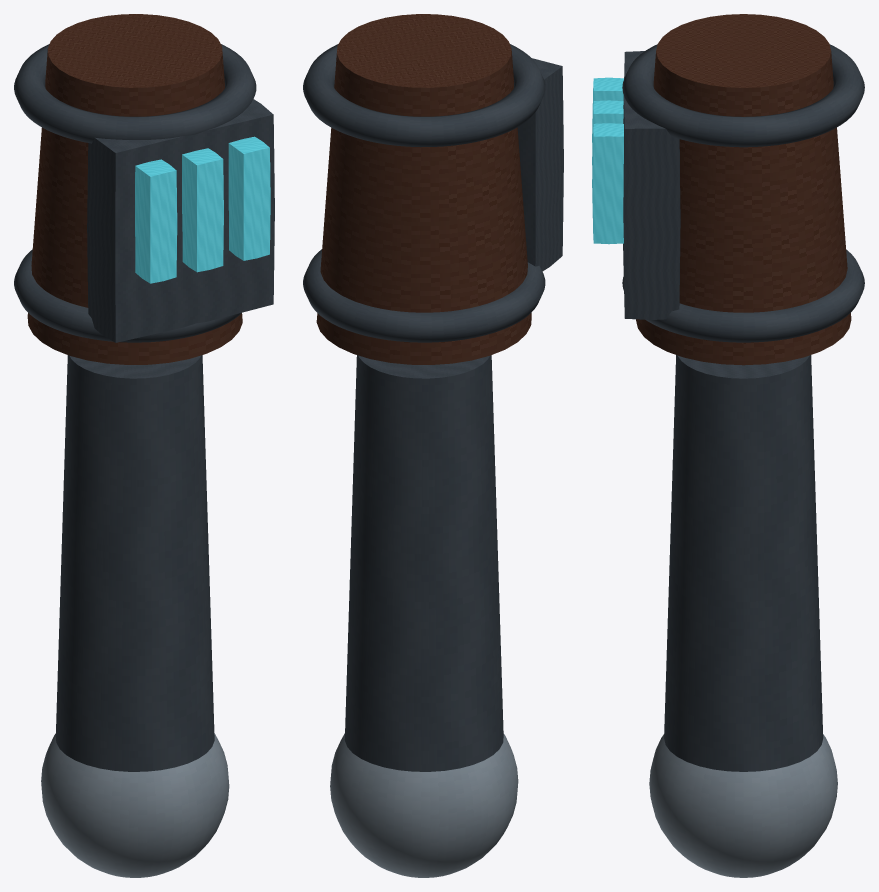
The model's file is exo-arm.glb.
3 renders of one model, left to right at view 1: azimuth 30°, elevation 25°; view 2: azimuth 150°, elevation 25°; view 3: azimuth 270°, elevation 25°, orthographic.
Parts seen in each view (by area): view 1: iron.7, leather.0, iron.3, steel.8, iron.2, crystal.6, crystal.4, crystal.5, iron.1; view 2: iron.7, leather.0, steel.8, iron.2, iron.1, iron.3; view 3: iron.7, leather.0, steel.8, iron.3, iron.2, iron.1, crystal.6, crystal.5, crystal.4.
Boxes of the visible parts, x1,y1,x2,y2 form: iron.7: [55, 355, 214, 771]; leather.0: [27, 14, 242, 364]; iron.3: [87, 99, 274, 342]; steel.8: [41, 733, 229, 877]; iron.2: [14, 44, 256, 143]; crystal.6: [228, 136, 270, 260]; crystal.4: [135, 159, 177, 283]; crystal.5: [182, 148, 223, 272]; iron.1: [14, 249, 241, 342]; iron.7: [344, 355, 503, 771]; leather.0: [316, 14, 531, 364]; steel.8: [330, 733, 518, 877]; iron.2: [303, 44, 545, 147]; iron.1: [303, 249, 545, 342]; iron.3: [517, 58, 563, 271]; iron.7: [664, 355, 823, 771]; leather.0: [636, 14, 851, 365]; steel.8: [649, 734, 837, 877]; iron.3: [623, 51, 680, 319]; iron.2: [622, 44, 864, 147]; iron.1: [622, 249, 864, 342]; crystal.6: [592, 123, 623, 244]; crystal.5: [592, 100, 623, 164]; crystal.4: [592, 77, 623, 142].
Bounding box in the file's own units: 0.18 × 0.67 × 0.2025.
Materials: 4 (4 with a texture image).
